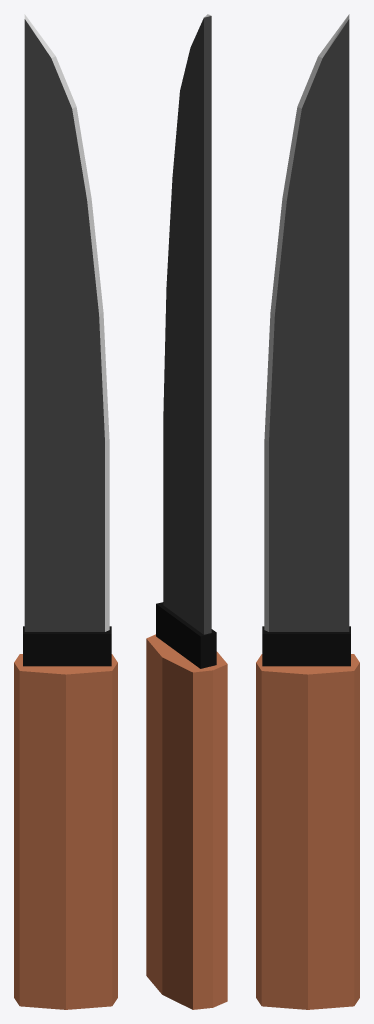
The model's file is Tanto.obj.
The picture shows the model from 3 angles, left to right: view 1: azimuth 90°, elevation 25°; view 2: azimuth 210°, elevation 25°; view 3: azimuth 270°, elevation 25°; orthographic projection.
Parts seen in each view (by area): view 1: Tanto_Plane.004; view 2: Tanto_Plane.004; view 3: Tanto_Plane.004.
Boxes of the visible parts, left/top/right/bottom form: Tanto_Plane.004: left=14, top=14, right=117, bottom=1009; Tanto_Plane.004: left=146, top=14, right=227, bottom=1009; Tanto_Plane.004: left=256, top=14, right=359, bottom=1009.
Bounding box in the file's own units: 0.02 × 0.3813 × 0.0365.
